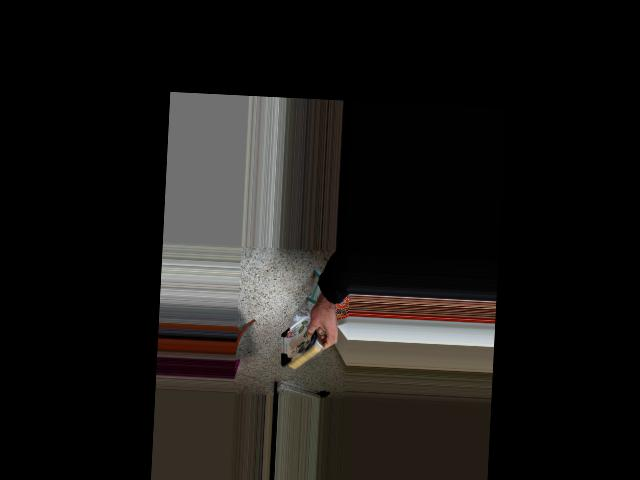cheese: (262, 316, 342, 385)
